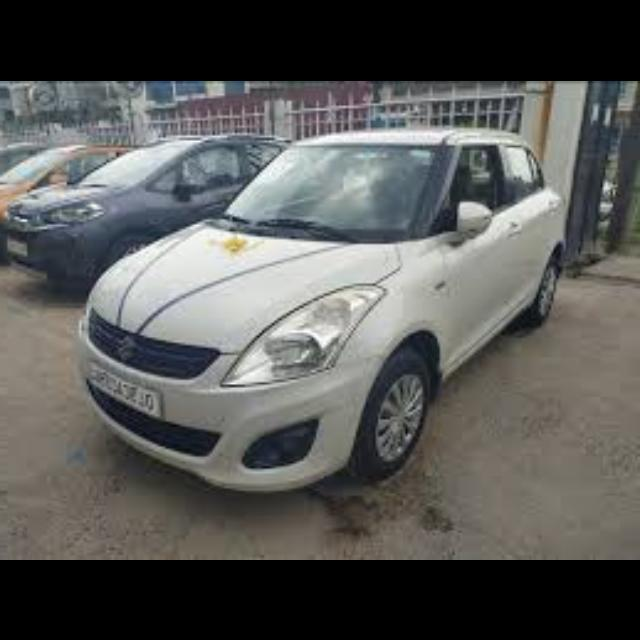number-plate: (87, 362, 166, 416), (8, 233, 30, 255)
vehicles: (66, 120, 573, 493), (2, 131, 297, 299)
